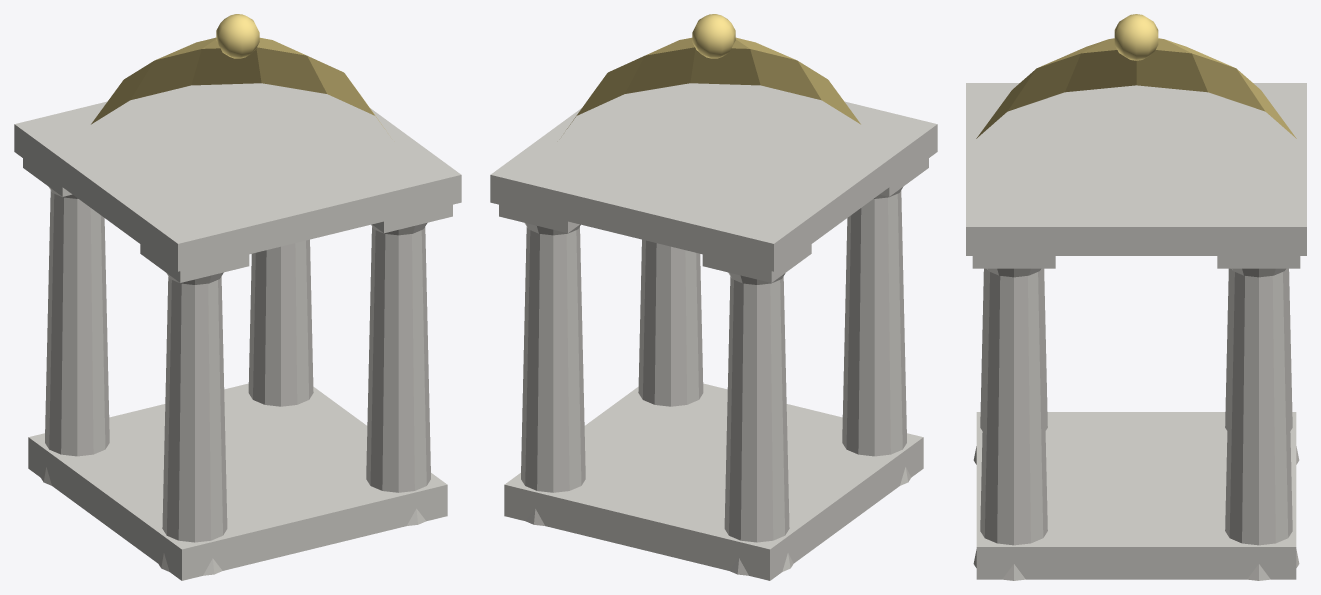
The model's file is mythic-underworld-and-olympus-sky-shrine-20de8819__21396.glb.
The picture shows the model from 3 angles, left to right: view 1: azimuth 30°, elevation 25°; view 2: azimuth 150°, elevation 25°; view 3: azimuth 270°, elevation 25°; orthographic projection. The views are drawn at different scales.
Parts seen in each view (by area): view 1: sky-shrine; view 2: sky-shrine; view 3: sky-shrine.
Boxes of the visible parts, <box> form: sky-shrine: <box>14,14,461,580</box>; sky-shrine: <box>490,14,937,580</box>; sky-shrine: <box>966,14,1306,580</box>.
Bounding box in the file's own units: 3.2 × 5.14 × 3.2.
